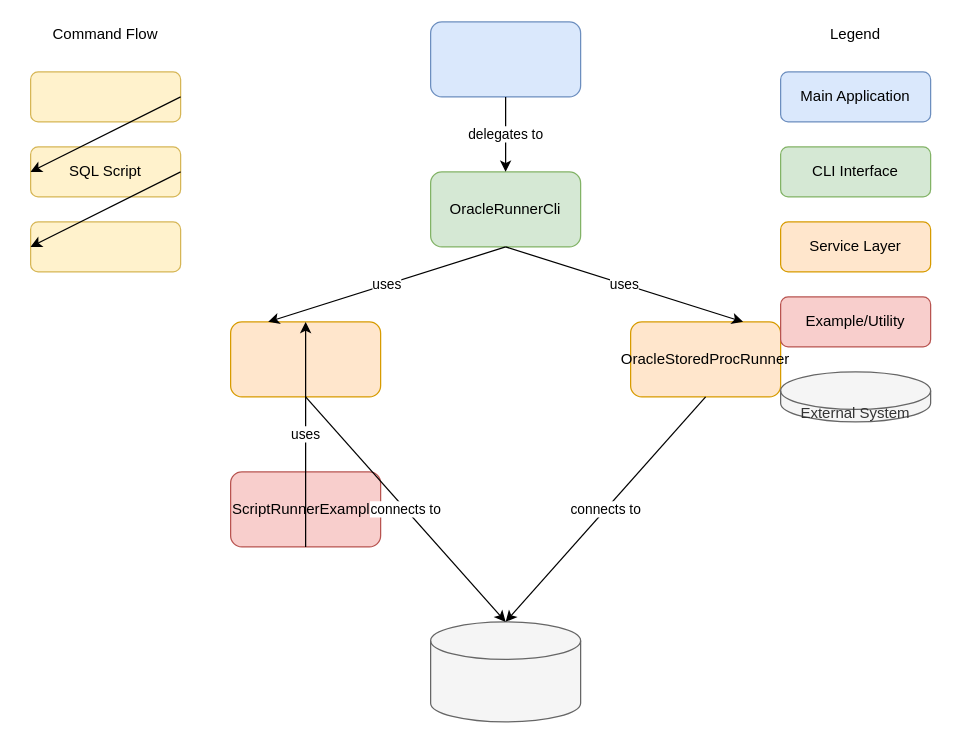
Some shapes in this 953 by 744 pixel diagram are drawn without their labels. The shapes that lost their labels are listed below. From the top down, each one's box as (x1, y1, x2, y2) in pixels, then its label:
(429, 21, 581, 97): App
(29, 71, 181, 122): script/proc
(29, 221, 181, 272): Stored Proc
(229, 321, 381, 397): OracleScriptRunner
(429, 621, 581, 722): Oracle Database
